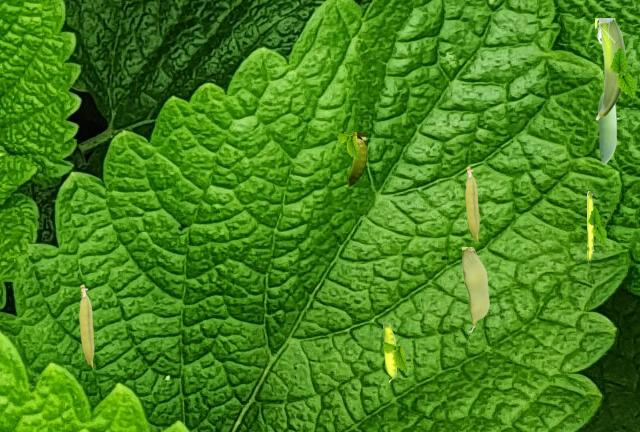pea: (595, 18, 626, 119), (462, 247, 488, 331), (598, 93, 615, 163), (344, 132, 366, 186), (79, 284, 93, 368), (465, 166, 478, 241), (383, 323, 395, 381), (587, 191, 596, 262)
